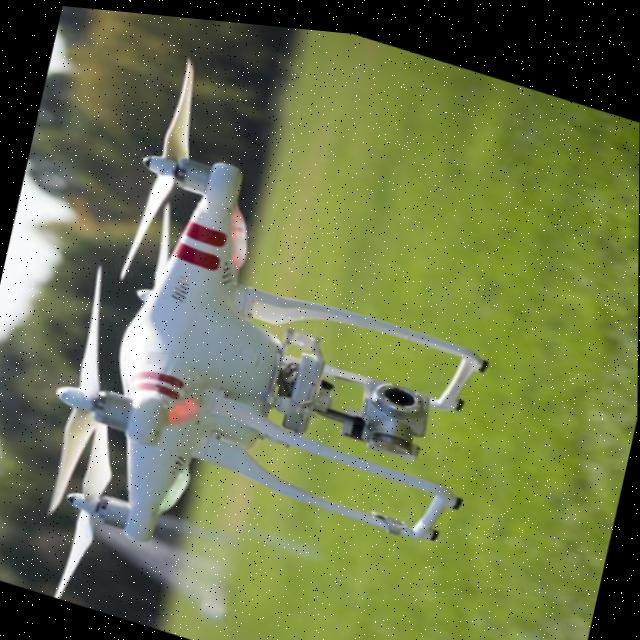drones: (10, 1, 640, 640)
